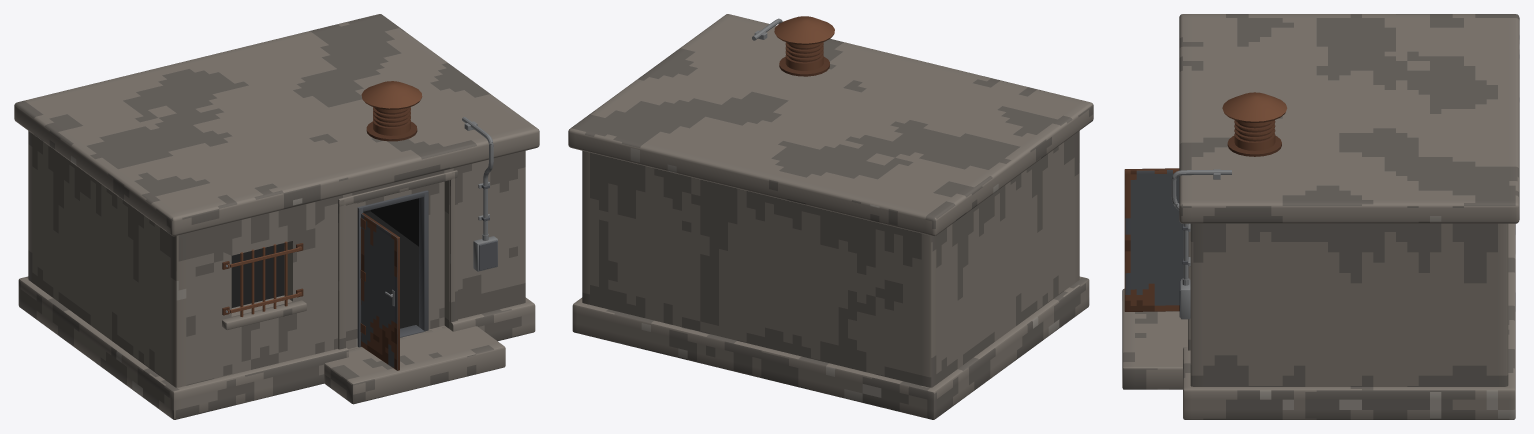
File: Bunker.fbx
The picture shows the model from 3 angles, left to right: view 1: azimuth 30°, elevation 25°; view 2: azimuth 150°, elevation 25°; view 3: azimuth 270°, elevation 25°; orthographic projection. The views are drawn at different scales.
Parts seen in each view (by area): view 1: Bunker_Mesh; view 2: Bunker_Mesh; view 3: Bunker_Mesh.
Part boxes in pixels (x1,y1,x2,y2): Bunker_Mesh: [14, 14, 539, 419]; Bunker_Mesh: [568, 14, 1093, 419]; Bunker_Mesh: [1122, 14, 1519, 419].
Size of the model in its own units: 6 by 3.89 by 5.25.
